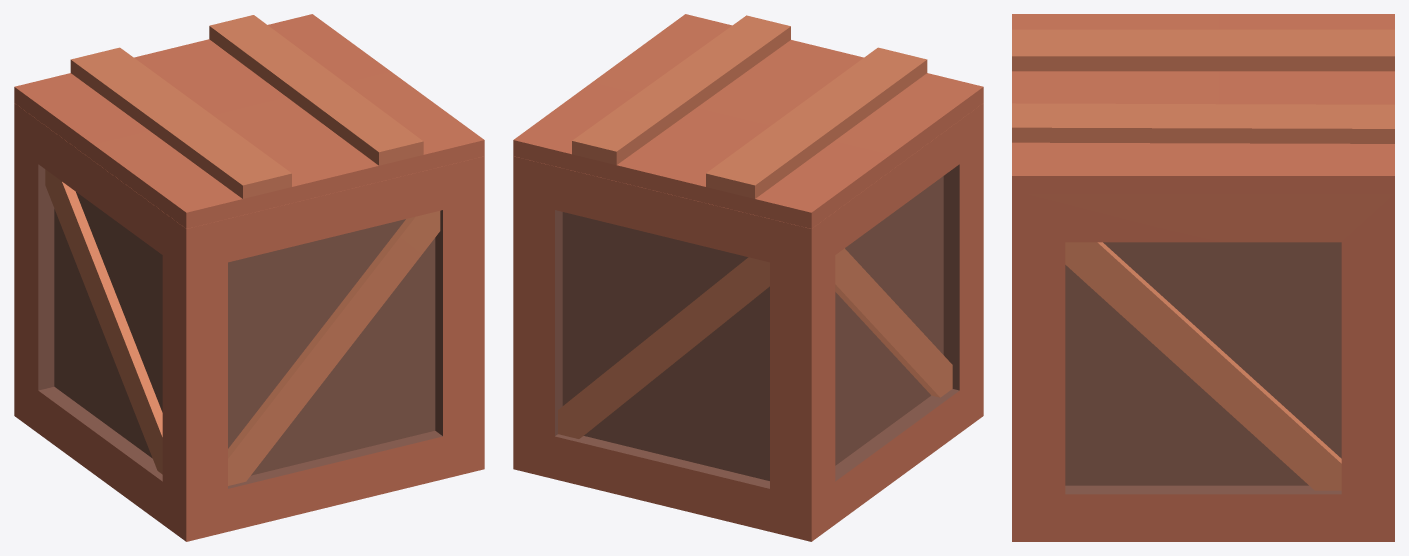
3 views of the same model, side by side, from view 1: azimuth 30°, elevation 25°; view 2: azimuth 150°, elevation 25°; view 3: azimuth 270°, elevation 25° (orthographic). The views are drawn at different scales.
Parts seen in each view (by area): view 1: body_box, lid; view 2: body_box, lid; view 3: body_box, lid.
Boxes of the visible parts, x1,y1,x2,y2 form: body_box: (14, 103, 484, 541); lid: (14, 14, 484, 228); body_box: (513, 103, 983, 541); lid: (513, 14, 983, 228); body_box: (1012, 194, 1394, 541); lid: (1012, 14, 1394, 193).
Bounding box in the file's own units: 2.27 × 2.49 × 2.27.
